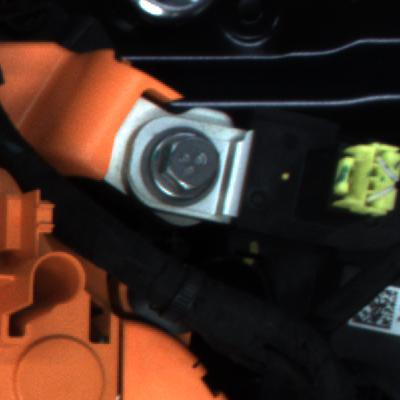nut_b: (138, 128, 222, 207)
